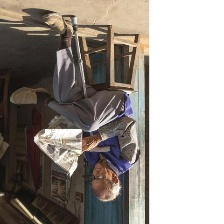news_paper: (31, 114, 90, 178)
